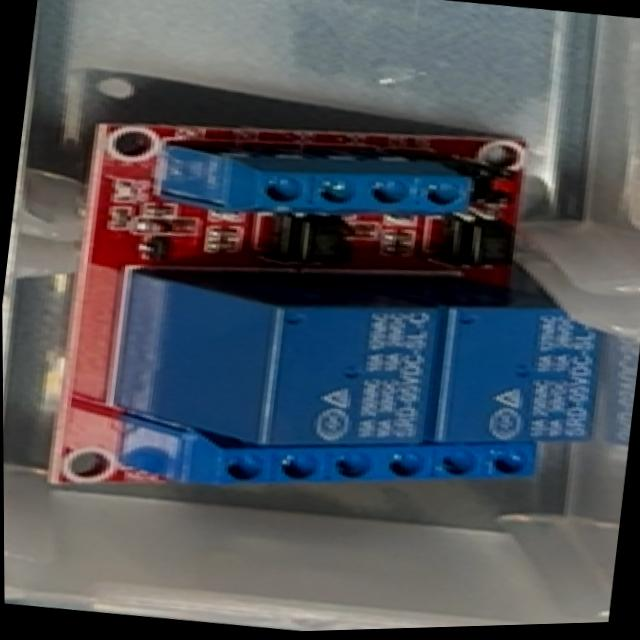Relay: (30, 82, 618, 554)
